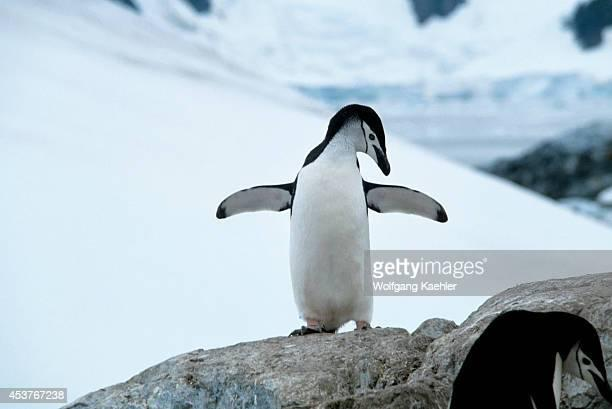chinstrap: (213, 87, 465, 350)
